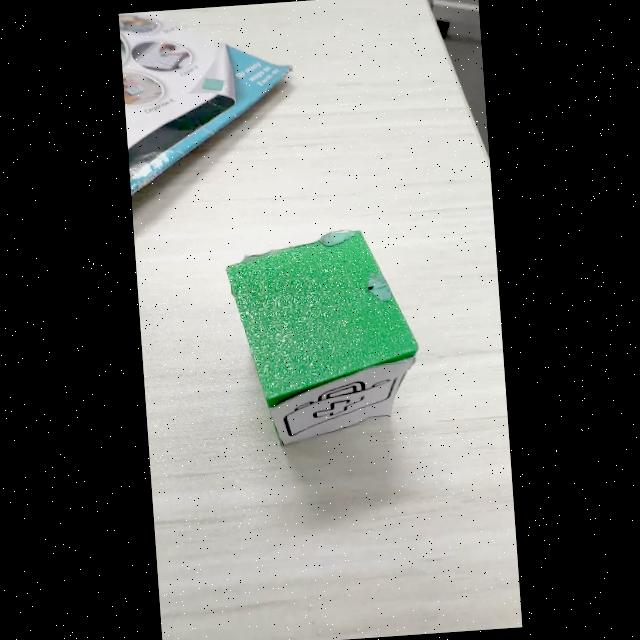Medkit: (283, 378, 392, 437)
